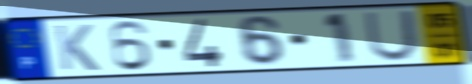1: (323, 12, 357, 65)
4: (183, 17, 225, 69)
6: (236, 14, 287, 68), (107, 19, 155, 73)
K: (51, 23, 102, 72)
U: (362, 8, 420, 63)
